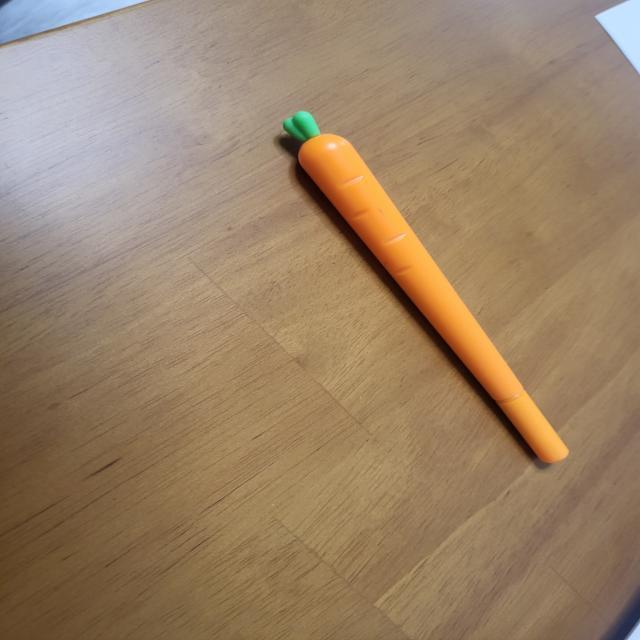carrot: (292, 129, 574, 471)
